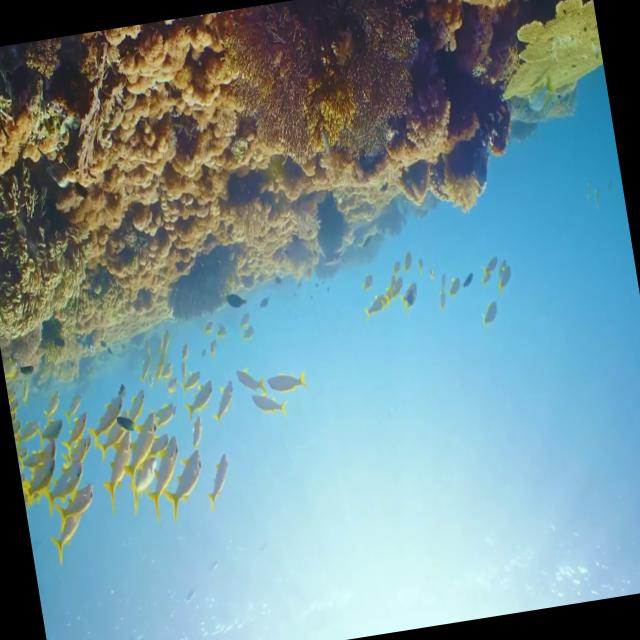fish: (140, 431, 190, 518), (158, 452, 212, 520), (200, 448, 238, 504), (248, 382, 293, 423), (265, 370, 309, 400)
